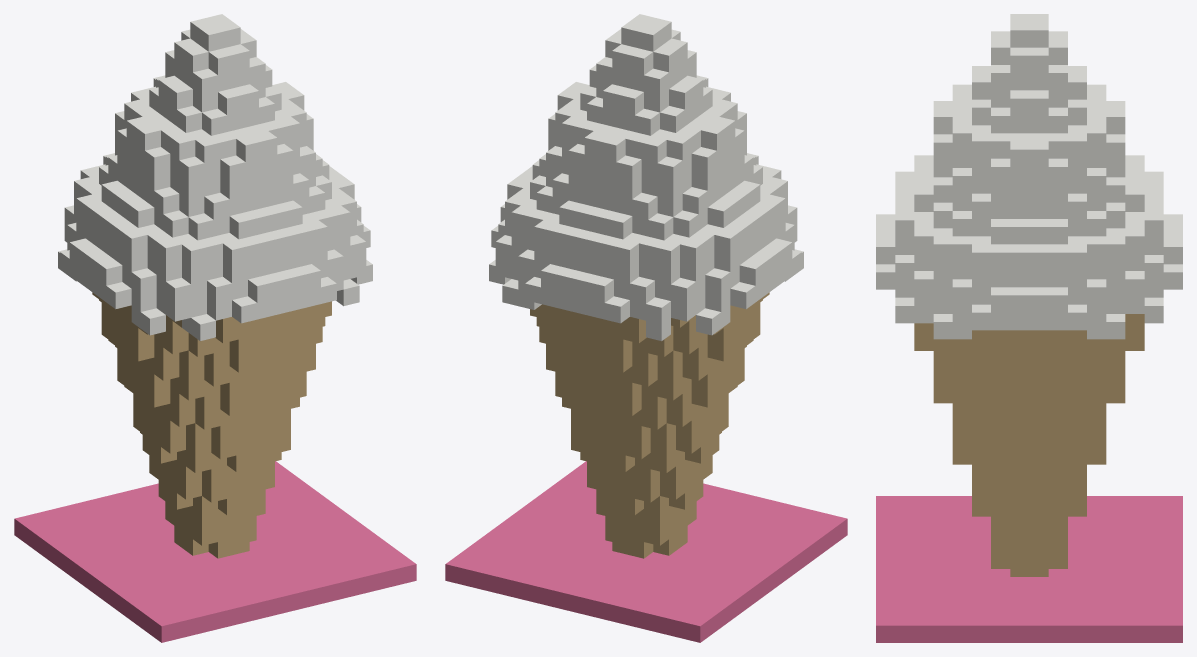
File: ice_cream_van_roof_cone.glb
3 views of the same model, side by side, from view 1: azimuth 30°, elevation 25°; view 2: azimuth 150°, elevation 25°; view 3: azimuth 270°, elevation 25° (orthographic). The views are drawn at different scales.
Visible parts, largest first — view 1: body:compound; view 2: body:compound; view 3: body:compound.
Part boxes in pixels (x1=…): body:compound: x1=14, y1=14, x2=416, y2=642; body:compound: x1=445, y1=14, x2=847, y2=642; body:compound: x1=876, y1=14, x2=1182, y2=642.
Bounding box in the file's own units: 0.5 × 1 × 0.5.
